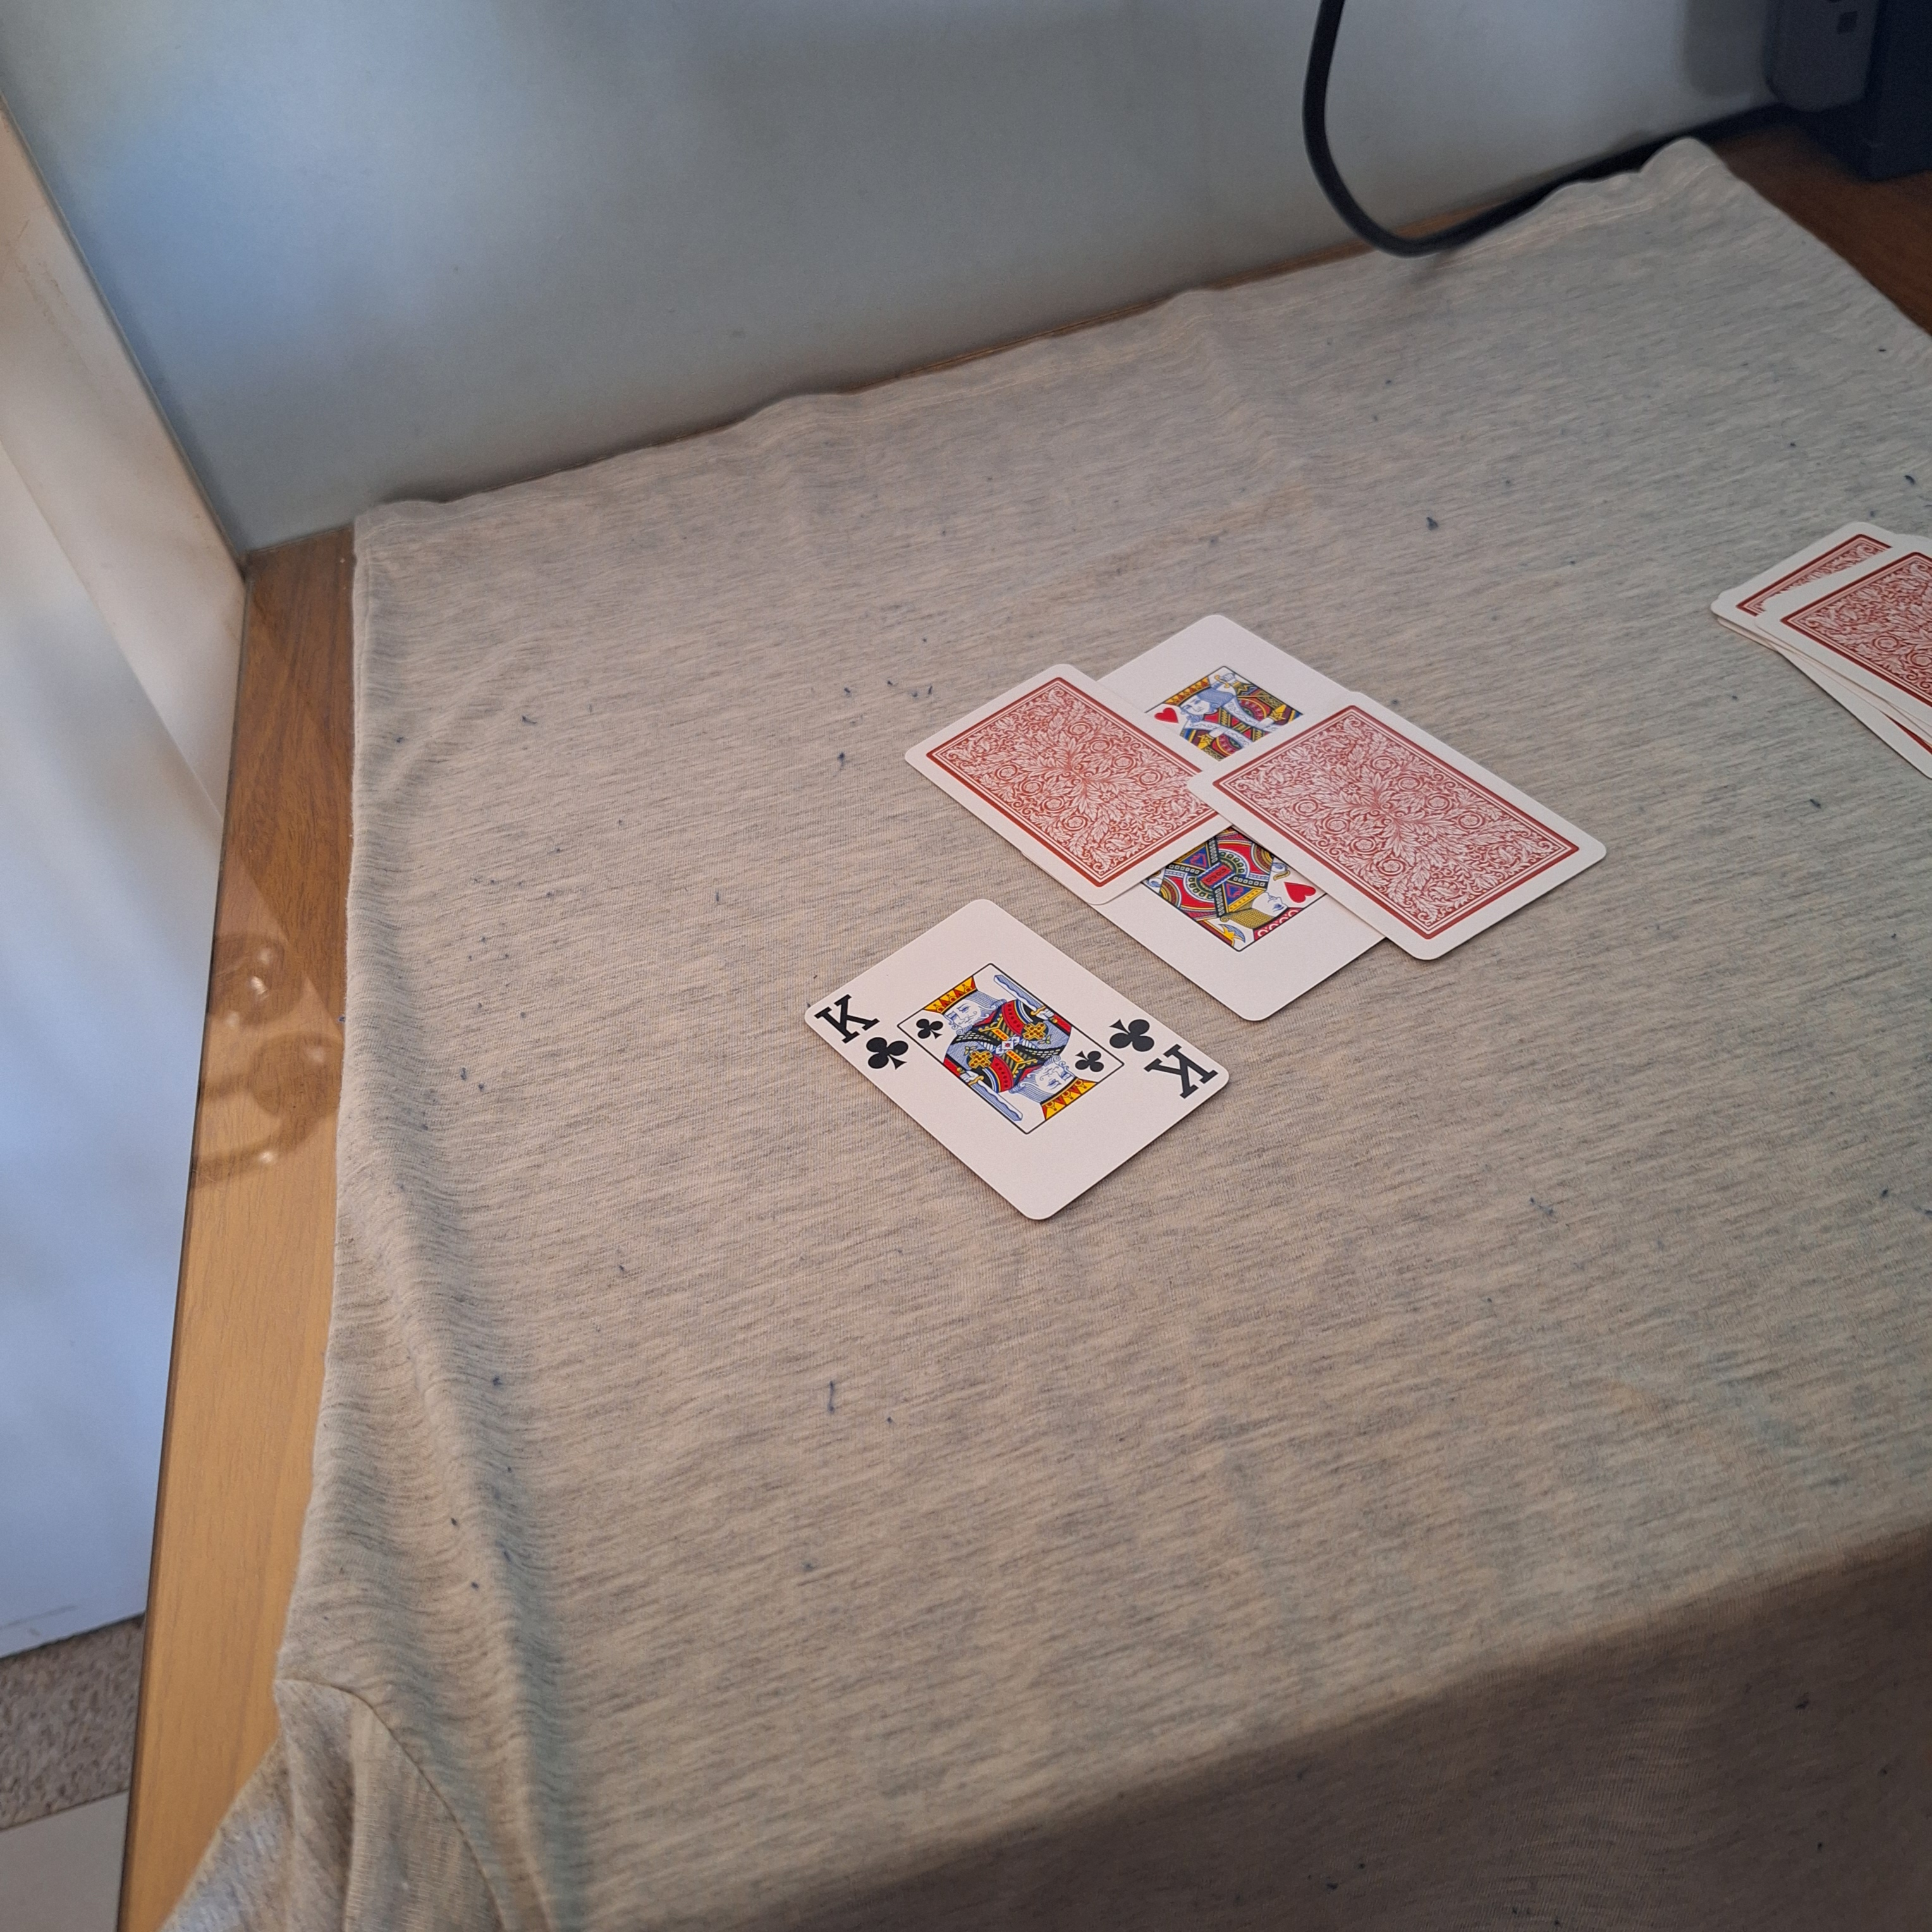KP: (1102, 1012, 1228, 1111), (809, 987, 913, 1081)
